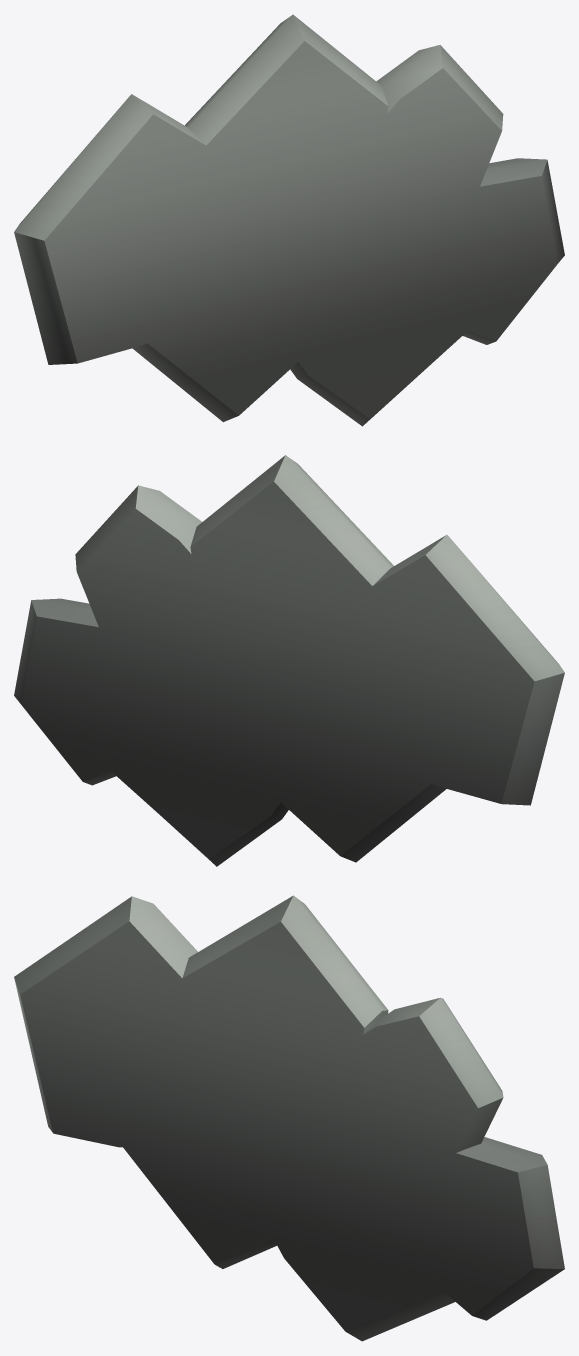
File: cloud1.fbx
3 renders of one model, top to bottom at view 1: azimuth 30°, elevation 25°; view 2: azimuth 150°, elevation 25°; view 3: azimuth 330°, elevation 25°, orthographic.
Visible parts, largest first — view 1: cloud1Transform; view 2: cloud1Transform; view 3: cloud1Transform.
Boxes of the visible parts, x1,y1,x2,y2 form: cloud1Transform: (14,14,564,426); cloud1Transform: (14,455,564,866); cloud1Transform: (14,895,564,1341).
Size of the model in its own units: 4.2 by 3.13 by 0.3237.
